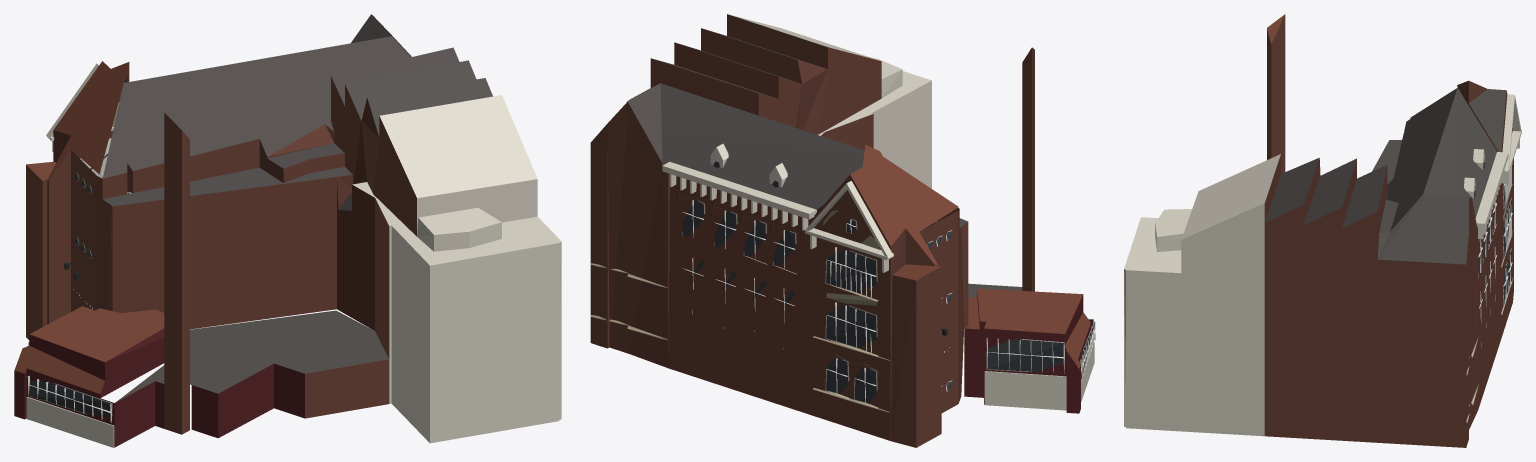
File: reinwardt-academie.lod1.glb
The picture shows the model from 3 angles, left to right: view 1: azimuth 30°, elevation 25°; view 2: azimuth 150°, elevation 25°; view 3: azimuth 270°, elevation 25°; orthographic projection. The views are drawn at different scales.
Visible parts, largest first — view 1: reinwardt-academie; view 2: reinwardt-academie; view 3: reinwardt-academie.
Part boxes in pixels (x1=…): reinwardt-academie: x1=14, y1=14, x2=561, y2=447; reinwardt-academie: x1=590, y1=14, x2=1095, y2=447; reinwardt-academie: x1=1124, y1=14, x2=1521, y2=447.
Size of the model in its own units: 36.65 by 24.51 by 31.44.
